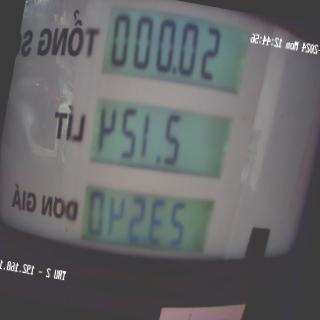screen: (61, 0, 257, 289)
